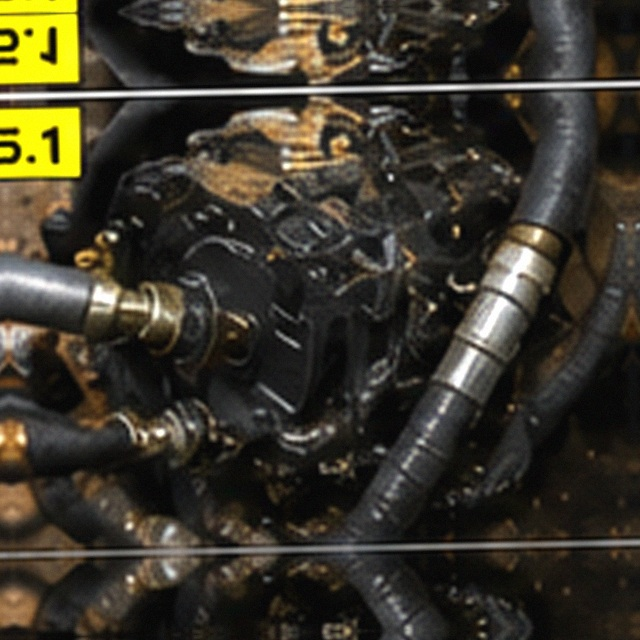hydraulic_oil_leak: (156, 179, 467, 445)
